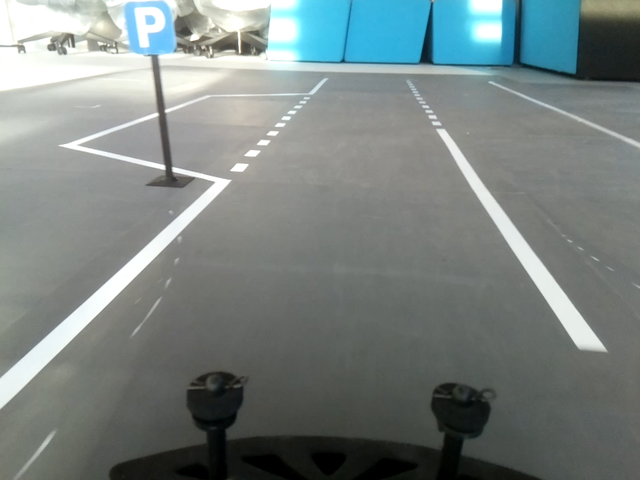parking: (124, 1, 177, 55)
